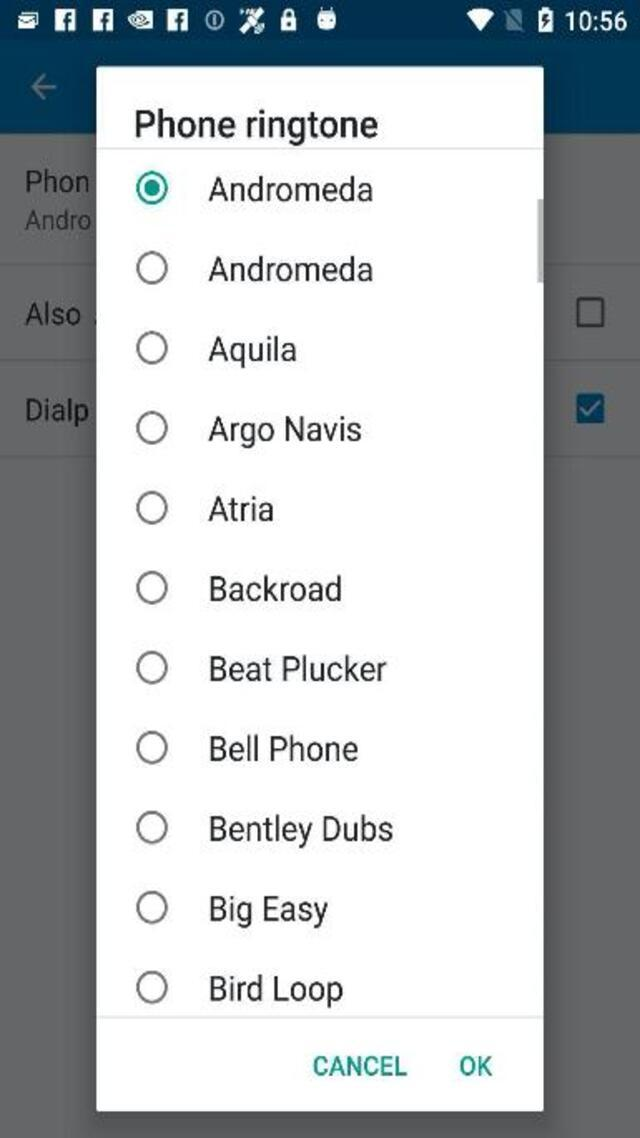CheckedTextView: (136, 810, 392, 847), (136, 650, 387, 684), (136, 251, 374, 286), (136, 410, 360, 447), (136, 969, 344, 1008), (136, 172, 374, 206), (134, 730, 358, 764), (136, 889, 329, 928), (136, 570, 340, 604), (136, 330, 296, 367), (136, 490, 274, 524)
Icon: (30, 74, 56, 100)
Text: (134, 106, 378, 146), (210, 814, 392, 847), (208, 416, 361, 448), (211, 655, 387, 682), (208, 175, 374, 202), (208, 255, 374, 282), (210, 974, 342, 1007), (210, 895, 328, 929), (210, 735, 358, 762), (211, 575, 341, 602), (208, 335, 296, 369), (313, 1054, 408, 1076), (208, 496, 274, 521), (459, 1054, 492, 1076)
